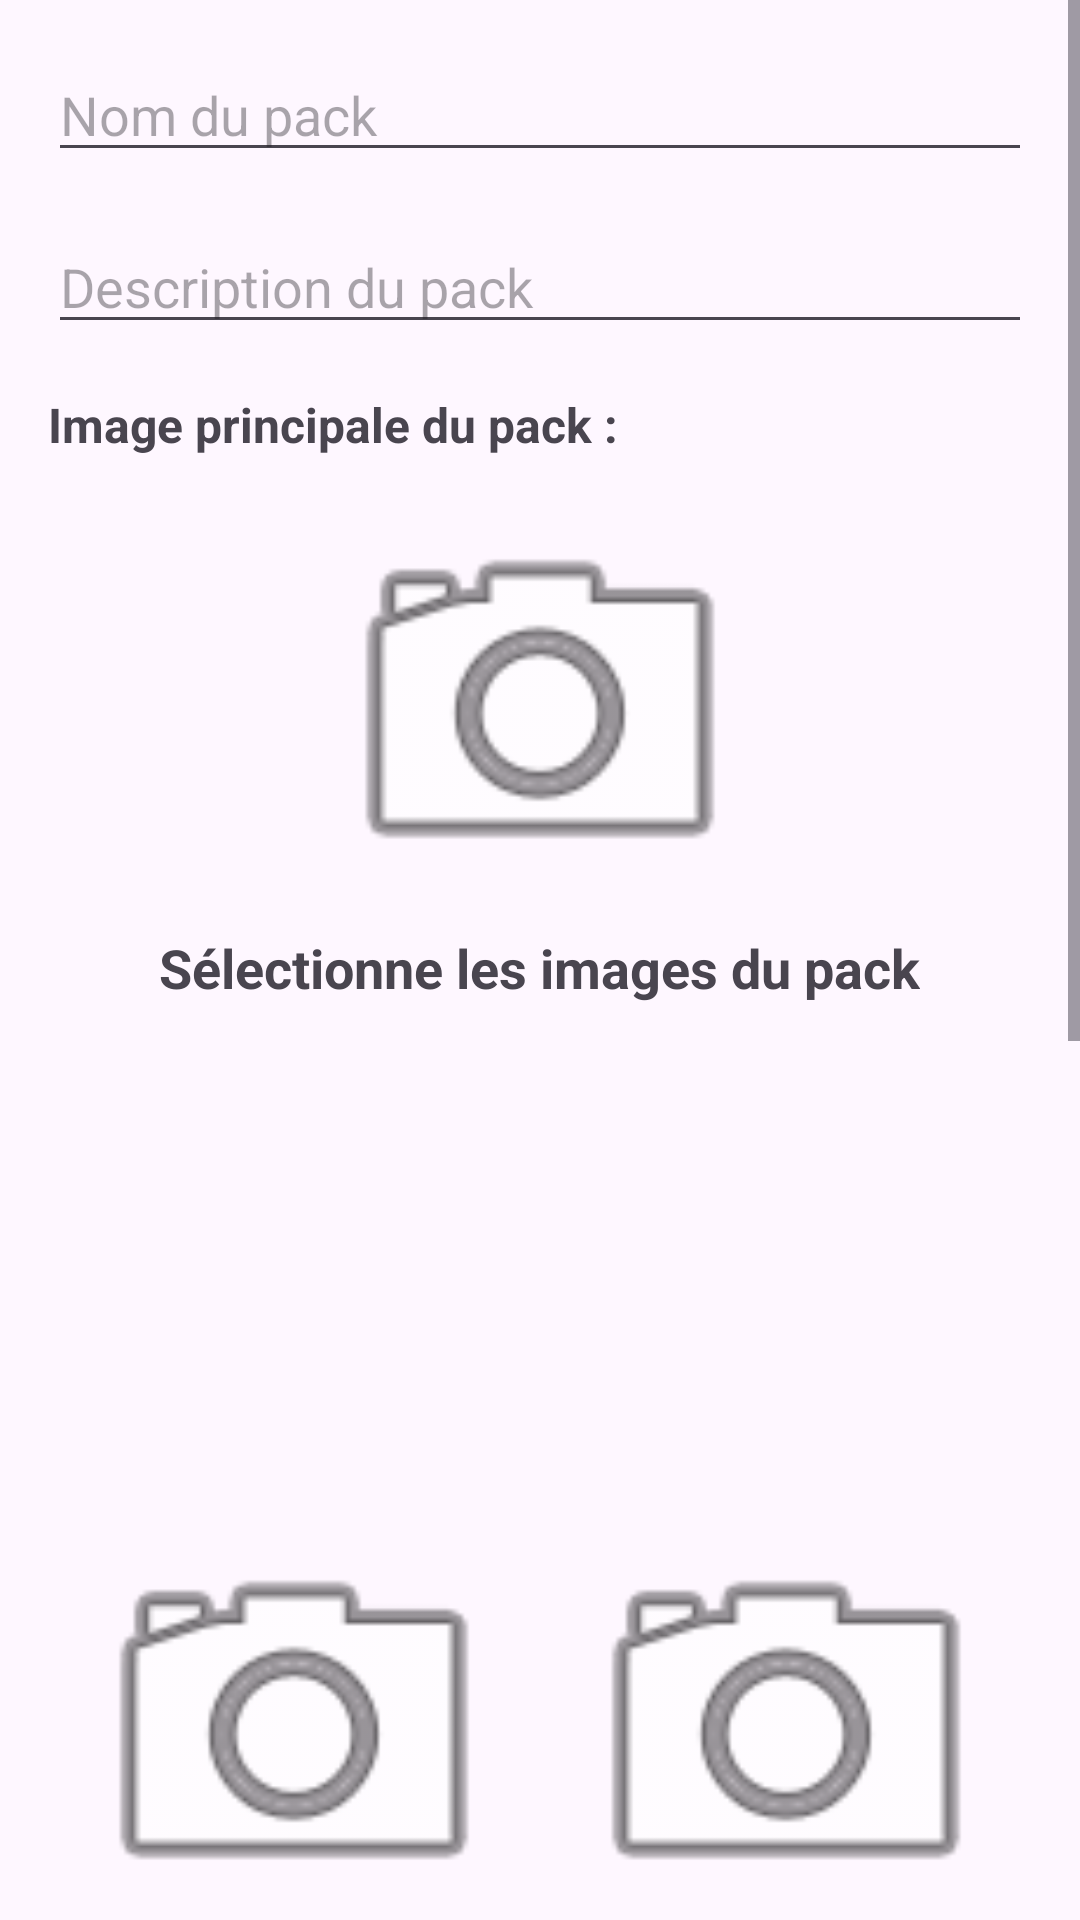

Named icons in this screenshot (1080px x 1920px) and their centers, [x,y]:
camera: [540,699], [294,1720], [786,1720]
